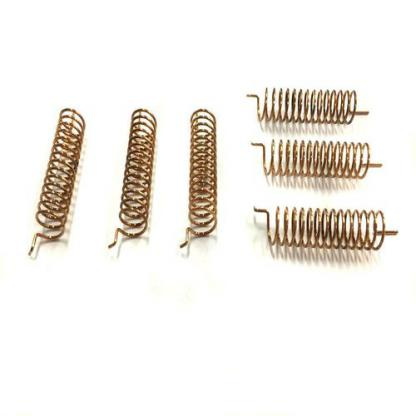FOD: (25, 106, 87, 259), (105, 104, 161, 250), (250, 205, 402, 253), (178, 108, 221, 250), (249, 137, 384, 179), (246, 84, 371, 127)
